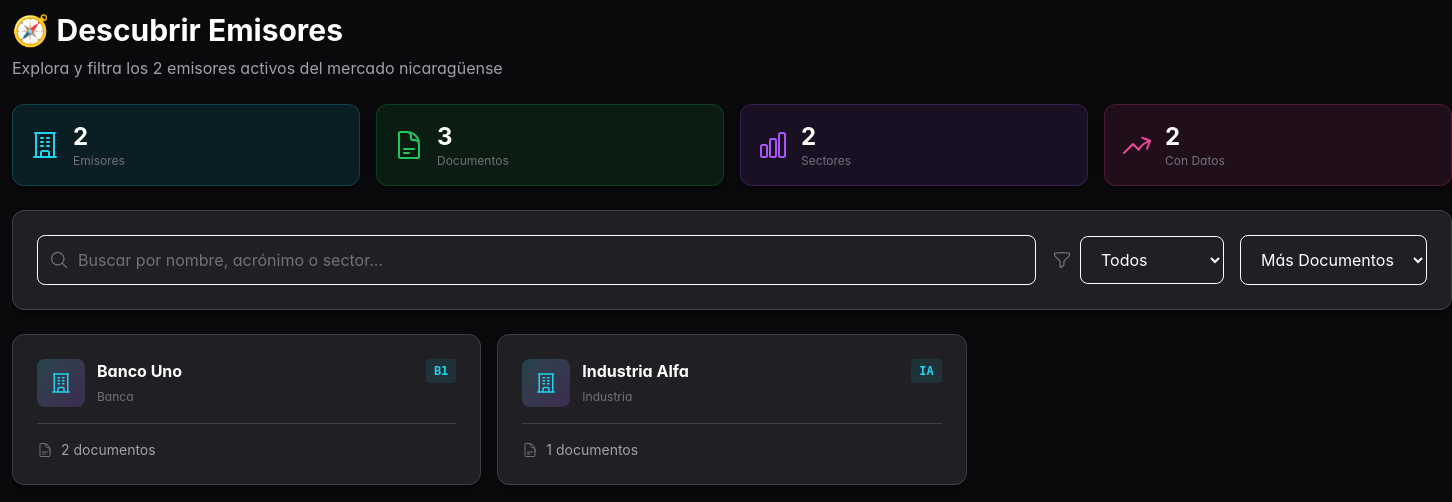
Test: Discover Page › filters issuers by sector
Expected: the heading "Banco Uno" is shown, [97,359,182,383]
Select "Banca (1)" in the 1st dropdown: (1152, 260) [1080,236,1224,284]
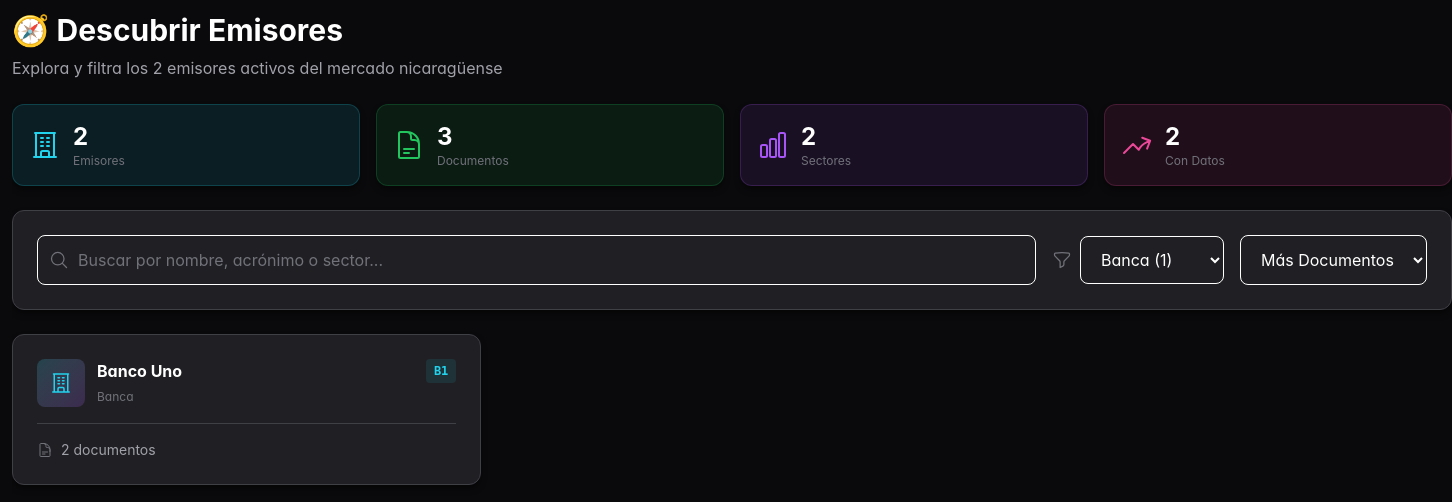
Expected: the heading "Banco Uno" is shown, [97,359,182,383]
Expected: the link "Industria Alfa" is gone
